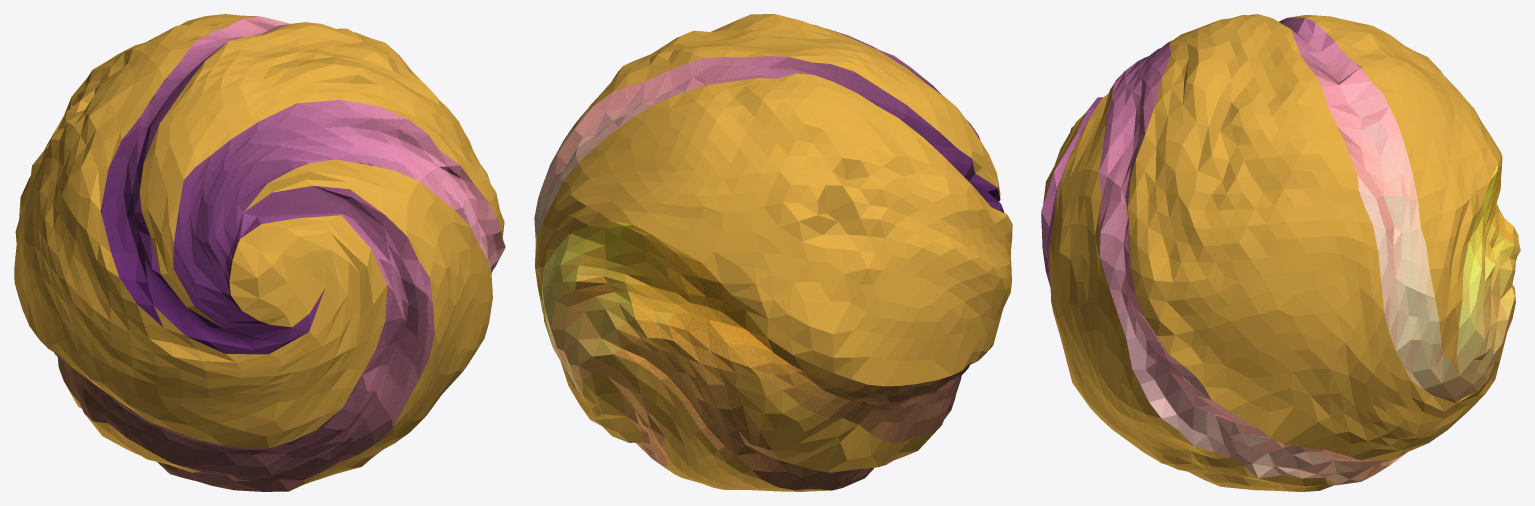
The model's file is hurricane烘焙.fbx.
3 renders of one model, left to right at view 1: azimuth 30°, elevation 25°; view 2: azimuth 150°, elevation 25°; view 3: azimuth 270°, elevation 25°, orthographic.
Parts seen in each view (by area): view 1: hurricane, hurricane.001; view 2: hurricane, hurricane.001; view 3: hurricane, hurricane.001.
Part boxes in pixels (bbox=[...]): hurricane: bbox=[14, 14, 504, 490]; hurricane.001: bbox=[51, 16, 505, 491]; hurricane: bbox=[534, 14, 1012, 491]; hurricane.001: bbox=[534, 29, 1005, 490]; hurricane: bbox=[1041, 14, 1515, 491]; hurricane.001: bbox=[1041, 17, 1520, 484].
Size of the model in its own units: 371 by 364 by 369.
